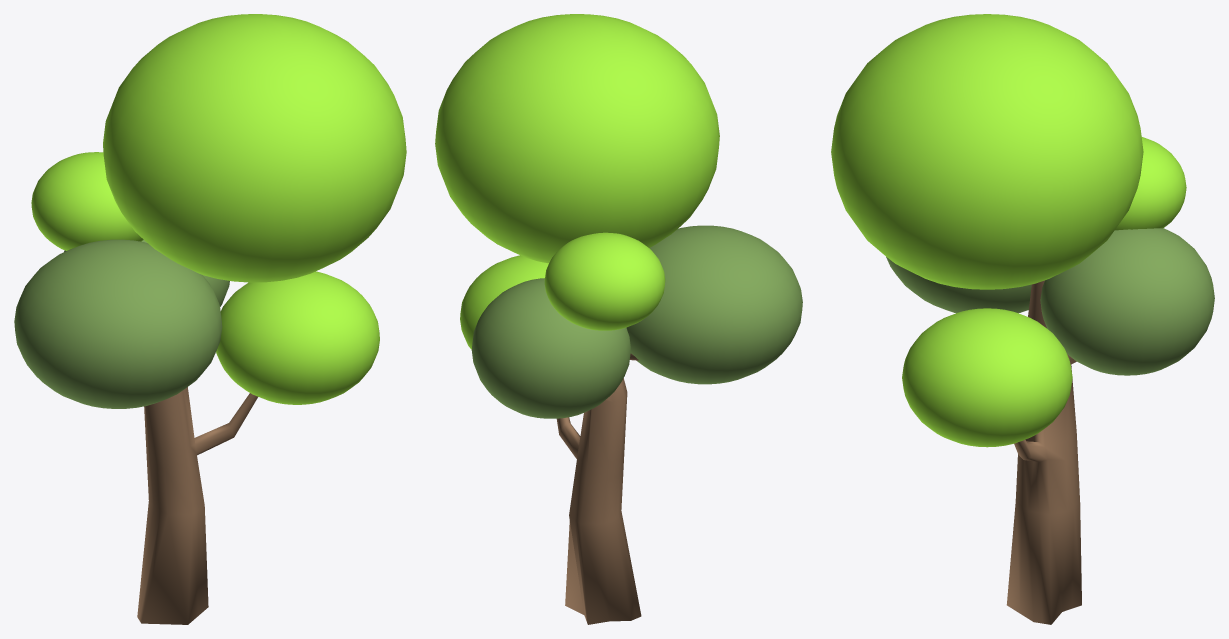
The model's file is MedisSuLapaisSviesus.glb.
3 views of the same model, side by side, from view 1: azimuth 30°, elevation 25°; view 2: azimuth 150°, elevation 25°; view 3: azimuth 270°, elevation 25° (orthographic). The views are drawn at different scales.
Visible parts, largest first — view 1: MedisSuLapaisSviesus; view 2: MedisSuLapaisSviesus; view 3: MedisSuLapaisSviesus.
Boxes of the visible parts, <box> form: MedisSuLapaisSviesus: <box>14,14,406,624</box>; MedisSuLapaisSviesus: <box>435,14,802,624</box>; MedisSuLapaisSviesus: <box>831,14,1214,624</box>.
Size of the model in its own units: 1.31 by 2.05 by 1.18.
